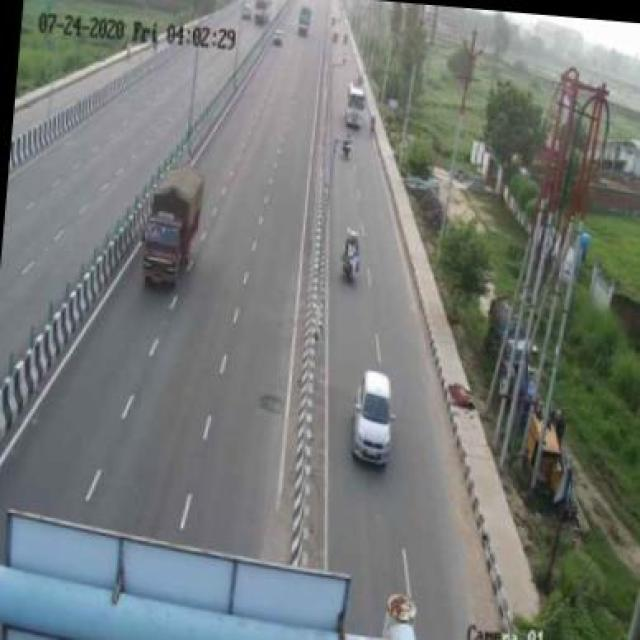car: (346, 361, 406, 472)
